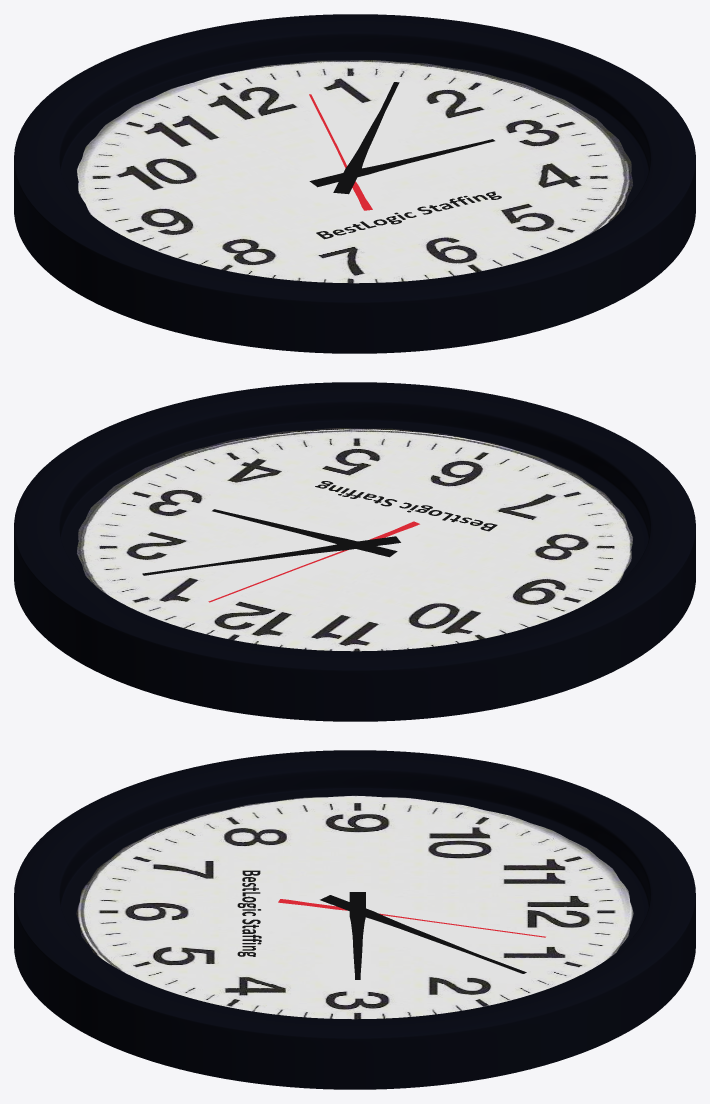
Rendered from bls-wall-clock.fbx.
3 views of the same model, one above another, from view 1: azimuth 30°, elevation 25°; view 2: azimuth 150°, elevation 25°; view 3: azimuth 270°, elevation 25° (orthographic).
Parts seen in each view (by area): view 1: clock, hours hand, minute hand 1, Text; view 2: clock, hours hand, minute hand 1, Text; view 3: clock, hours hand, minute hand 1, Text, second hand.
Part boxes in pixels (box(x1,y1,x2,y2)): clock: box(14, 14, 695, 353); hours hand: box(333, 82, 399, 194); minute hand 1: box(309, 139, 494, 187); Text: box(316, 191, 501, 239); clock: box(14, 382, 695, 721); hours hand: box(142, 536, 400, 575); minute hand 1: box(212, 509, 397, 557); Text: box(315, 481, 497, 531); clock: box(14, 750, 695, 1089); hours hand: box(320, 895, 526, 973); minute hand 1: box(349, 892, 365, 979); Text: box(237, 870, 261, 956); second hand: box(278, 899, 545, 937).
Bounding box in the file's own units: 157 × 13.68 × 157.
Materials: 6 (1 with a texture image).
